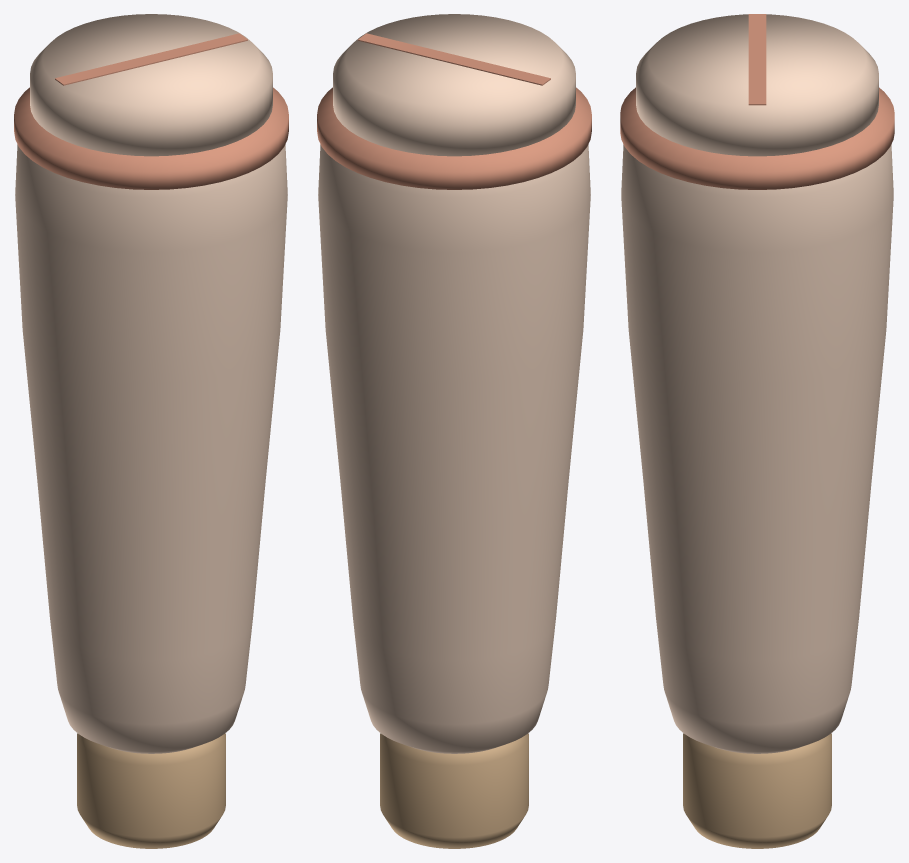
The picture shows the model from 3 angles, left to right: view 1: azimuth 30°, elevation 25°; view 2: azimuth 150°, elevation 25°; view 3: azimuth 270°, elevation 25°; orthographic projection.
Parts seen in each view (by area): view 1: Cosmetic Squeeze Tube; view 2: Cosmetic Squeeze Tube; view 3: Cosmetic Squeeze Tube.
Boxes of the visible parts, <box> form: Cosmetic Squeeze Tube: <box>14,14,288,848</box>; Cosmetic Squeeze Tube: <box>317,14,591,848</box>; Cosmetic Squeeze Tube: <box>620,14,894,848</box>.
Bounding box in the file's own units: 0.554 × 1.7 × 0.554.
